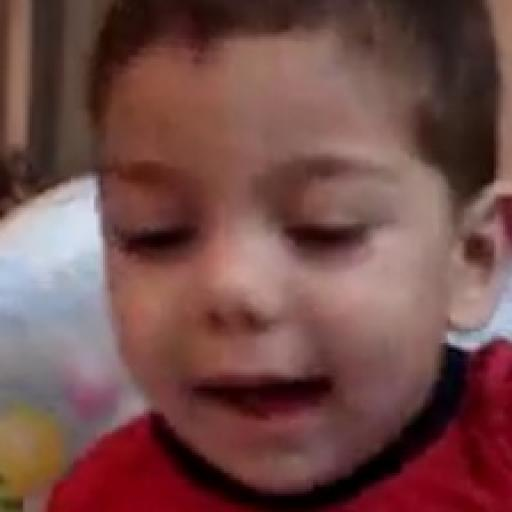Autism: (67, 7, 512, 501)
